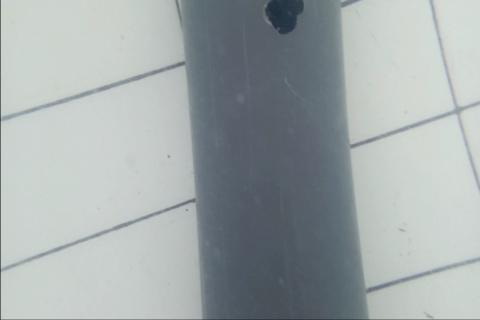kebocoran: (264, 0, 306, 38)
